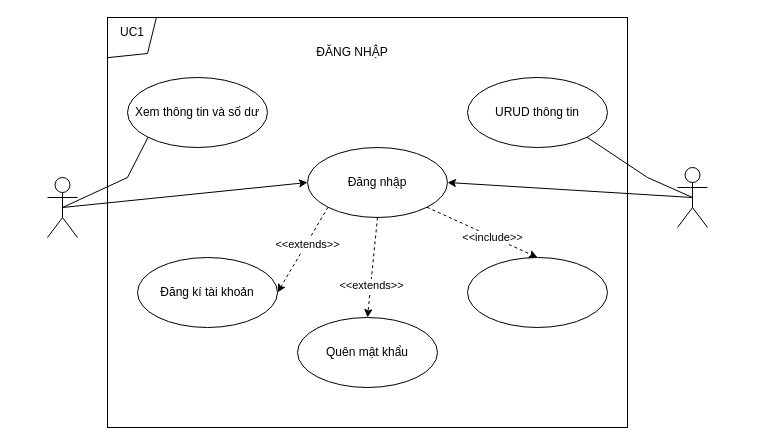
This 757x445 diagram has some shape labels left out. Here are the shapes that lost their labels. From the top down, the centre of each, then its label:
At point 62,207: "User <<khách hàng>>".
At point 692,197: "Admin <<Quản trị viên>>".
At point 537,292: "Xác thực thông tin".
